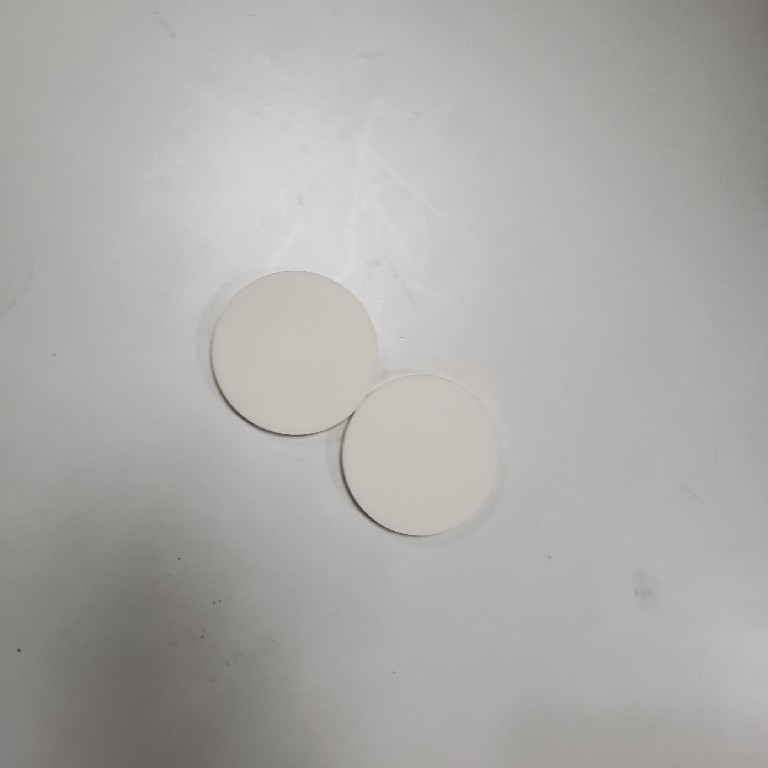ceramics: (208, 266, 507, 543)
